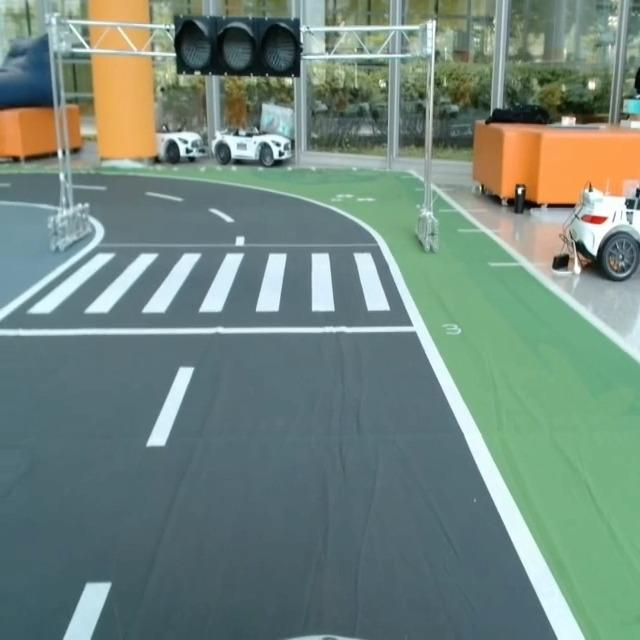traffic-light: (173, 14, 305, 78)
